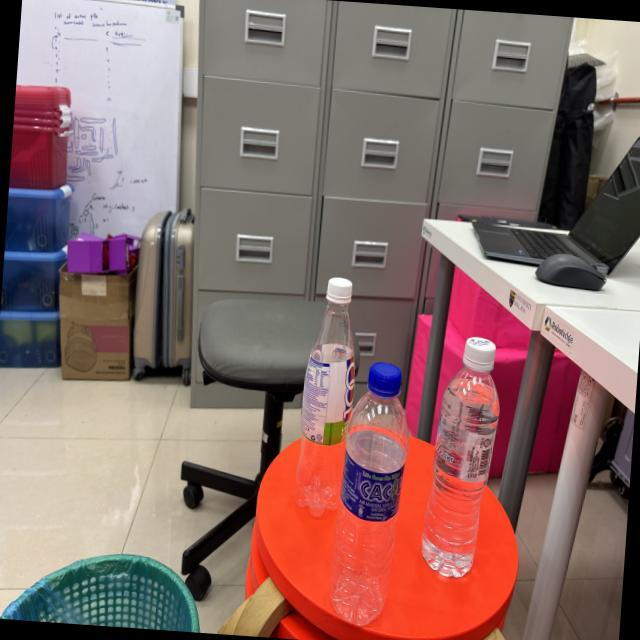plastic_bottle: (324, 351, 420, 640), (412, 321, 508, 592), (289, 264, 372, 523)
